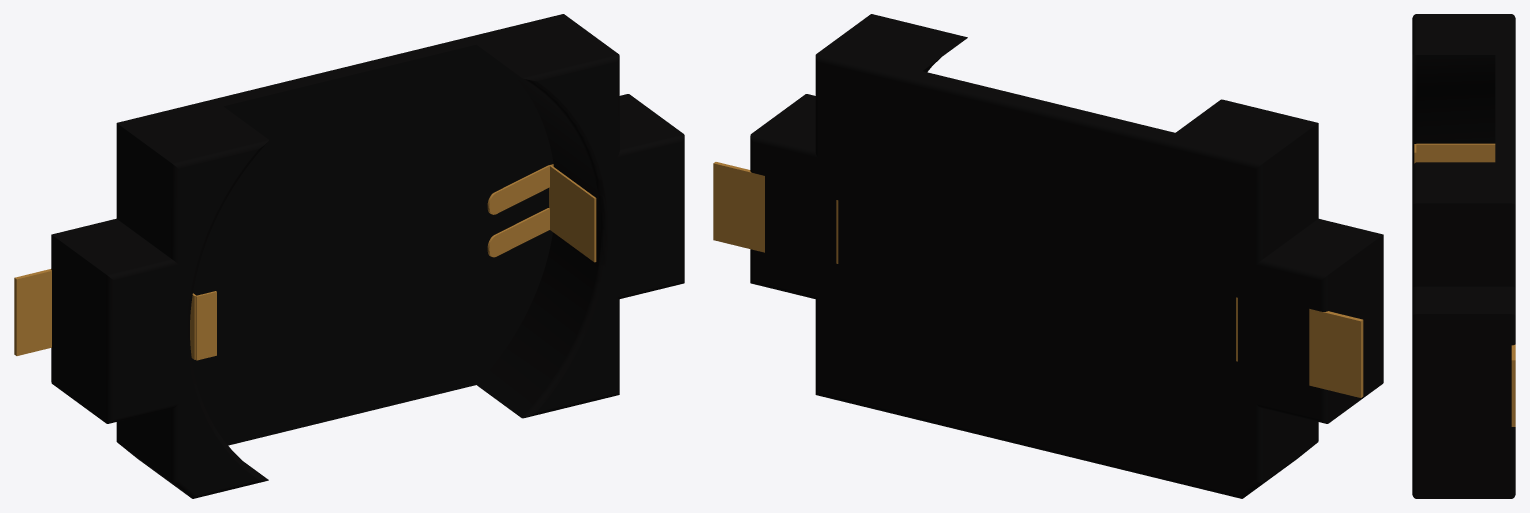
The model's file is batteryholder_keystone_1060_1x2032.glb.
The picture shows the model from 3 angles, left to right: view 1: azimuth 30°, elevation 25°; view 2: azimuth 150°, elevation 25°; view 3: azimuth 270°, elevation 25°; orthographic projection. The views are drawn at different scales.
Visible parts, largest first — view 1: BatteryHolder_Keystone_1060_1x2032; view 2: BatteryHolder_Keystone_1060_1x2032; view 3: BatteryHolder_Keystone_1060_1x2032.
Boxes of the visible parts, bbox=[...] form: BatteryHolder_Keystone_1060_1x2032: bbox=[14, 14, 684, 498]; BatteryHolder_Keystone_1060_1x2032: bbox=[713, 14, 1383, 498]; BatteryHolder_Keystone_1060_1x2032: bbox=[1412, 14, 1515, 498].
Size of the model in its own units: 31.86 by 16 by 5.08.
